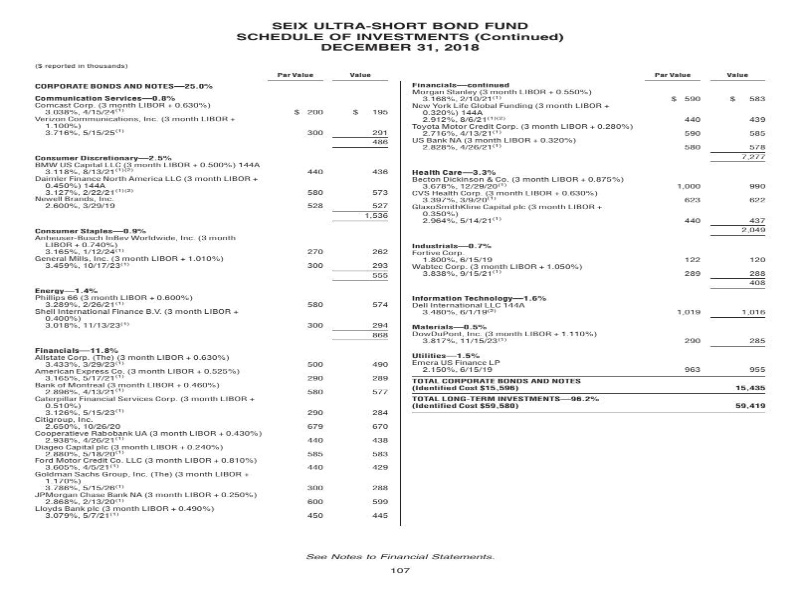table: (25, 57, 408, 537), (392, 64, 791, 423)
